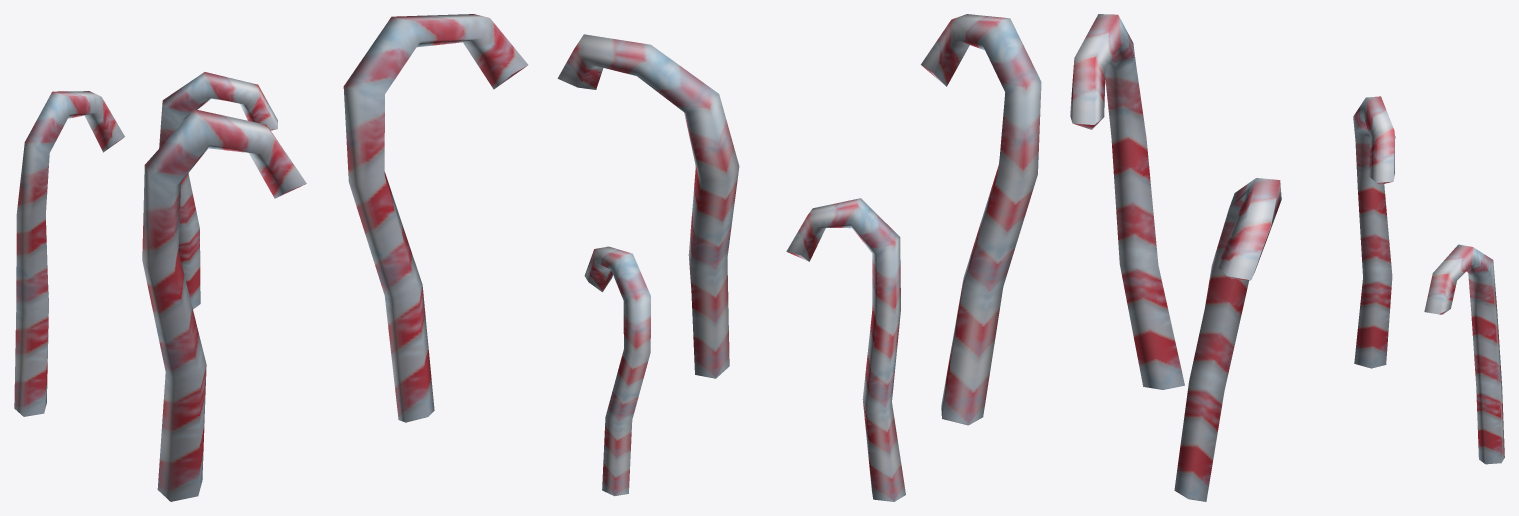
The model's file is Lolipops01.FBX.
The picture shows the model from 3 angles, left to right: view 1: azimuth 30°, elevation 25°; view 2: azimuth 150°, elevation 25°; view 3: azimuth 270°, elevation 25°; orthographic projection. The views are drawn at different scales.
Visible parts, largest first — view 1: Lolipop003, Lolipop004, Lolipop002, Lolipop001; view 2: Lolipop004, Lolipop003, Lolipop002, Lolipop001; view 3: Lolipop004, Lolipop003, Lolipop002, Lolipop001.
Boxes of the visible parts, x1,y1,x2,y2 form: Lolipop003: [343, 14, 528, 422]; Lolipop004: [142, 109, 306, 501]; Lolipop002: [14, 91, 124, 416]; Lolipop001: [159, 72, 277, 309]; Lolipop004: [921, 14, 1041, 425]; Lolipop003: [557, 34, 739, 378]; Lolipop002: [786, 198, 905, 501]; Lolipop001: [584, 246, 650, 496]; Lolipop004: [1070, 14, 1184, 389]; Lolipop003: [1174, 178, 1281, 501]; Lolipop002: [1353, 96, 1395, 368]; Lolipop001: [1424, 244, 1504, 464].
Size of the model in its own units: 385 by 362 by 339.
Materials: 1 (1 with a texture image).
